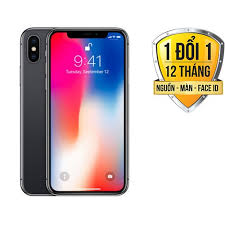iphone: (45, 27, 129, 196)
iphone10: (46, 25, 130, 194)
